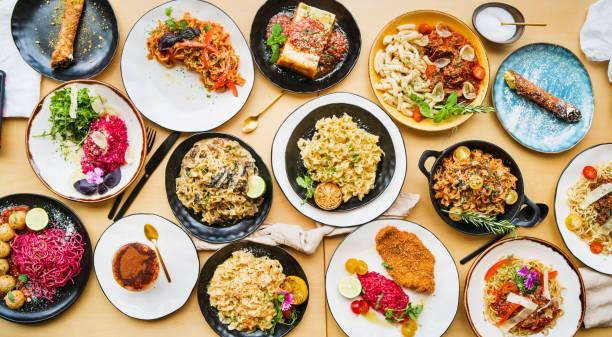Braised Crucian Carp: (271, 91, 403, 227), (119, 0, 251, 133), (323, 217, 455, 337), (24, 79, 144, 204), (367, 9, 487, 134), (462, 235, 586, 336), (1, 192, 94, 324), (417, 139, 541, 236), (164, 130, 271, 242), (93, 212, 200, 320), (493, 41, 594, 154), (196, 239, 308, 336), (248, 0, 360, 95), (10, 1, 117, 82)
